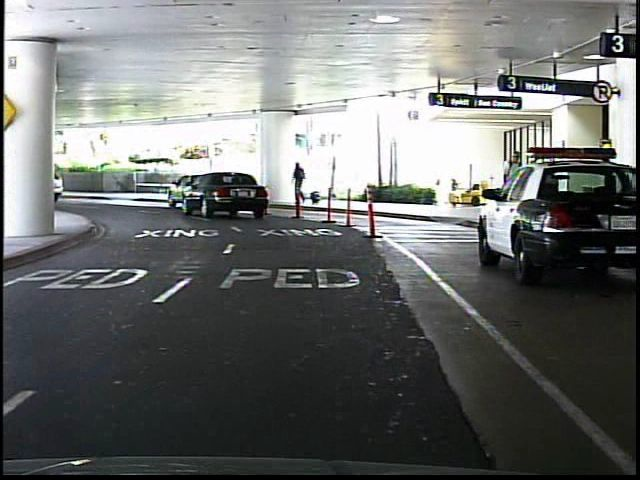person: (498, 146, 525, 226), (288, 161, 315, 209)
